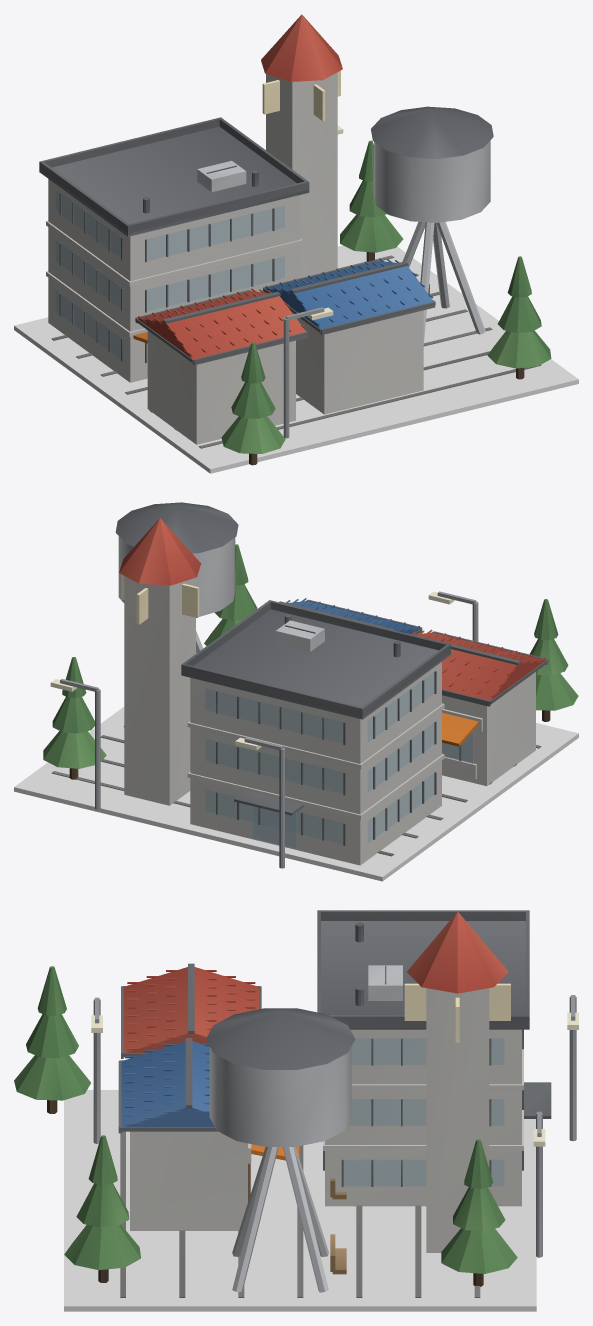
Rendered from Civic_P2.fbx.
The picture shows the model from 3 angles, top to bottom: view 1: azimuth 30°, elevation 25°; view 2: azimuth 150°, elevation 25°; view 3: azimuth 270°, elevation 25°; orthographic projection. The views are drawn at different scales.
Visible parts, largest first — view 1: Civic.Hall, Civic.Plaza, Civic.Shop1, Civic.Shop0, Civic.WaterTower, Civic.Tower, Civic.Tree2, Civic.Tree1, Civic.Tree0, Civic.Paving, Civic.Lamp0; view 2: Civic.Hall, Civic.Tower, Civic.Plaza, Civic.Shop0, Civic.WaterTower, Civic.Tree0, Civic.Tree2, Civic.Tree1, Civic.Shop1, Civic.Lamp1, Civic.Lamp2, Civic.Paving (+1 smaller); view 3: Civic.Plaza, Civic.Hall, Civic.WaterTower, Civic.Tower, Civic.Shop1, Civic.Shop0, Civic.Tree2, Civic.Tree0, Civic.Tree1, Civic.Paving, Civic.Lamp0, Civic.Lamp2 (+2 smaller).
Boxes of the visible parts, x1,y1,x2,y2 form: Civic.Hall: [39, 117, 309, 382]; Civic.Plaza: [14, 245, 578, 473]; Civic.Shop1: [263, 258, 435, 414]; Civic.Shop0: [133, 288, 307, 444]; Civic.WaterTower: [371, 106, 493, 344]; Civic.Tower: [261, 14, 342, 278]; Civic.Tree2: [221, 342, 285, 465]; Civic.Tree1: [487, 256, 551, 379]; Civic.Tree0: [340, 140, 403, 261]; Civic.Paving: [51, 255, 541, 448]; Civic.Lamp0: [283, 307, 333, 438]; Civic.Hall: [181, 600, 450, 865]; Civic.Tower: [119, 518, 201, 805]; Civic.Plaza: [14, 707, 578, 881]; Civic.Shop0: [406, 629, 548, 786]; Civic.WaterTower: [115, 502, 238, 727]; Civic.Tree0: [43, 657, 106, 779]; Civic.Tree2: [530, 599, 578, 721]; Civic.Tree1: [204, 544, 257, 645]; Civic.Shop1: [279, 598, 422, 634]; Civic.Lamp1: [50, 679, 100, 809]; Civic.Lamp2: [235, 737, 284, 868]; Civic.Paving: [51, 735, 541, 856]; Civic.Plaza: [64, 1090, 536, 1311]; Civic.Hall: [317, 910, 551, 1206]; Civic.WaterTower: [206, 1008, 355, 1292]; Civic.Tower: [404, 911, 510, 1252]; Civic.Shop1: [118, 1038, 299, 1230]; Civic.Shop0: [121, 963, 261, 1058]; Civic.Tree2: [14, 966, 90, 1113]; Civic.Tree0: [441, 1139, 517, 1286]; Civic.Tree1: [64, 1135, 140, 1282]; Civic.Paving: [120, 1131, 480, 1297]; Civic.Lamp0: [91, 997, 102, 1143]; Civic.Lamp2: [567, 995, 578, 1141].
Size of the model in its own units: 2600 by 1871 by 2870.
